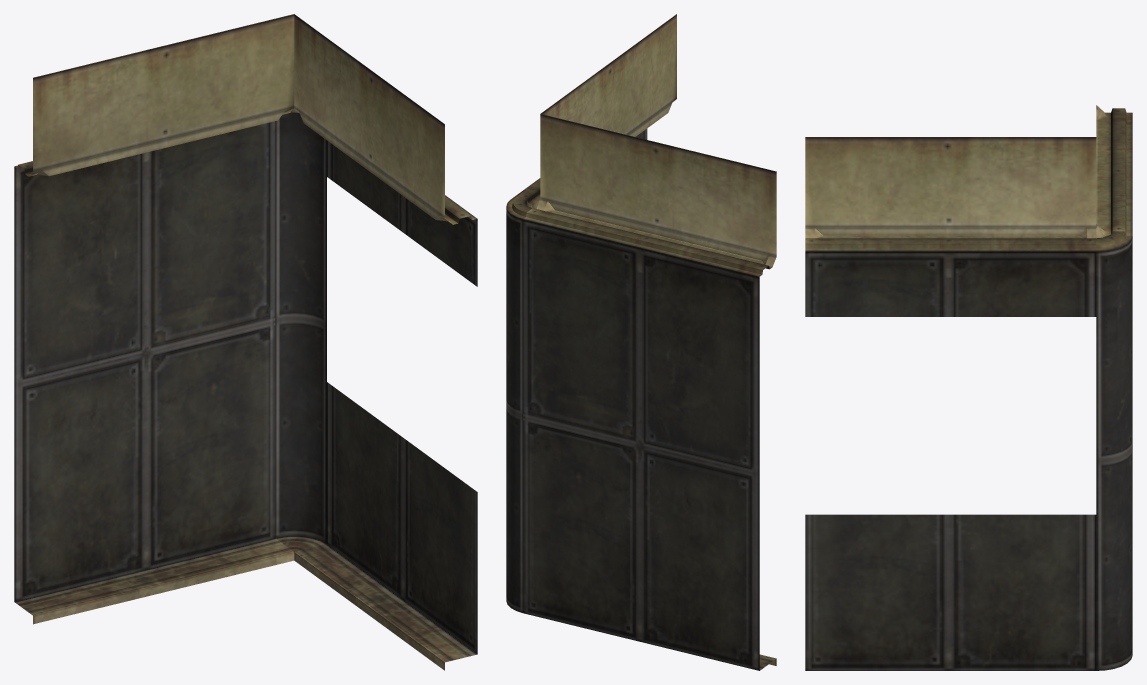
Rendered from pplant_ground_concave_short_tunnel_exit.dae.
The picture shows the model from 3 angles, left to right: view 1: azimuth 30°, elevation 25°; view 2: azimuth 150°, elevation 25°; view 3: azimuth 270°, elevation 25°; orthographic projection. The views are drawn at different scales.
Parts seen in each view (by area): view 1: ground_concave_short_tunnel_exit; view 2: ground_concave_short_tunnel_exit; view 3: ground_concave_short_tunnel_exit.
Part boxes in pixels (x1,y1,x2,y2): ground_concave_short_tunnel_exit: [14, 14, 477, 670]; ground_concave_short_tunnel_exit: [506, 14, 776, 670]; ground_concave_short_tunnel_exit: [805, 105, 1132, 670].
Bounding box in the file's own units: 2.25 × 4 × 2.25.
